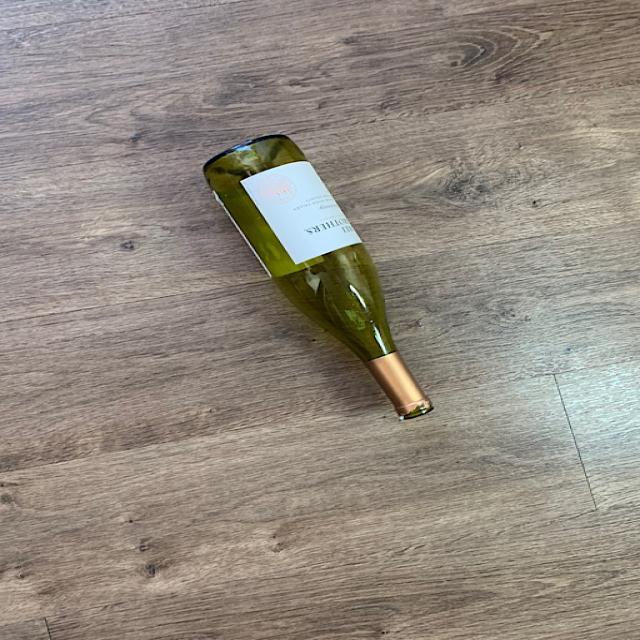Glass Bottle: (203, 134, 438, 424)
